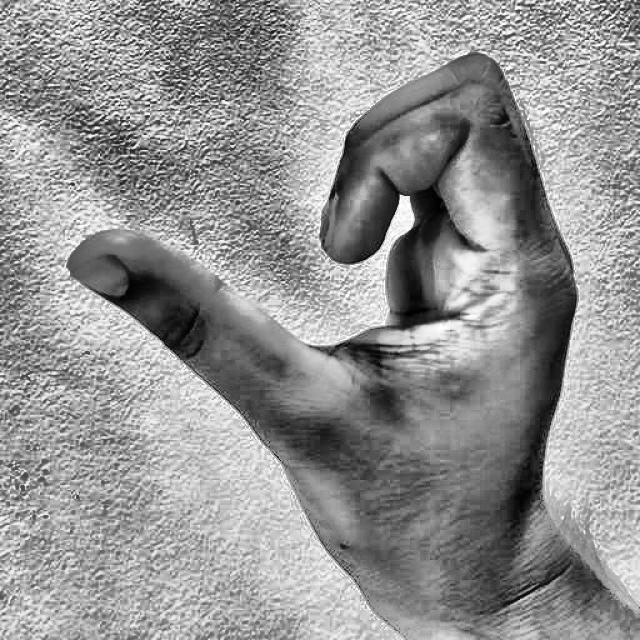Kha: (34, 22, 609, 624)
